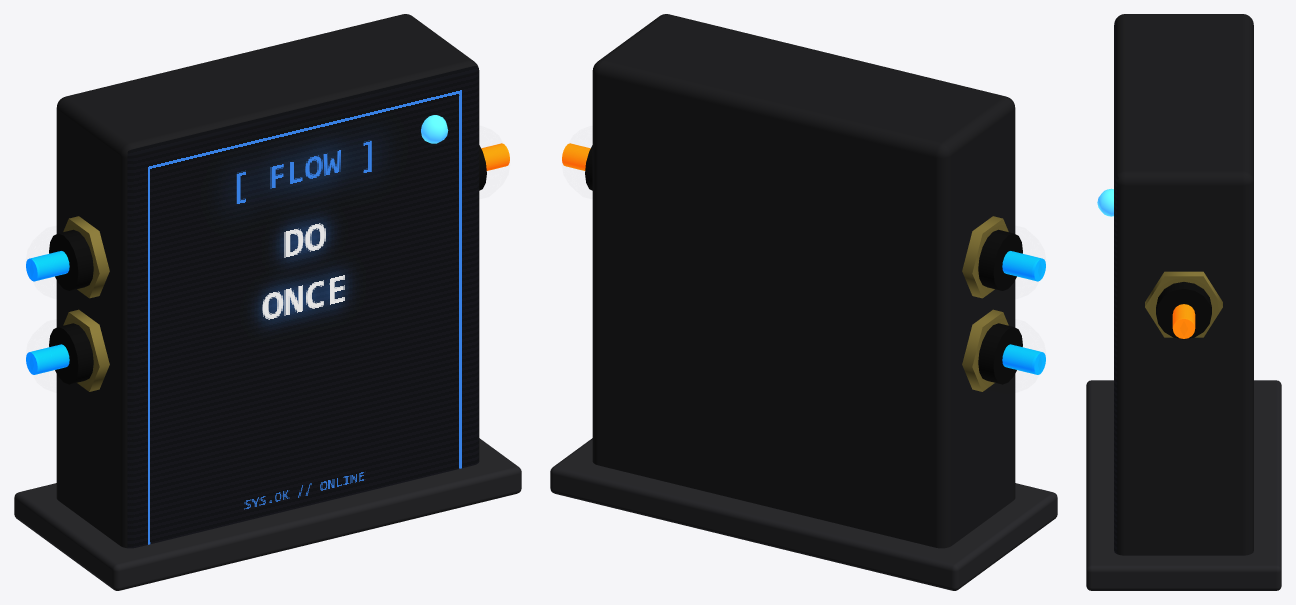
Rendered from flow_do_once.glb.
3 views of the same model, side by side, from view 1: azimuth 30°, elevation 25°; view 2: azimuth 150°, elevation 25°; view 3: azimuth 270°, elevation 25° (orthographic). The views are drawn at different scales.
Visible parts, largest first — view 1: chassis, bracket, socket (×2), hex_nut (×2), pin (×2); view 2: chassis, bracket, socket (×2), hex_nut (×2), pin (×2); view 3: chassis, bracket, socket, hex_nut, pin, status_led.
Boxes of the visible parts, x1,y1,x2,y2 form: chassis: (56, 14, 479, 548); bracket: (14, 438, 521, 590); socket (×2): (49, 229, 93, 384); hex_nut (×2): (63, 216, 109, 391); pin (×2): (26, 251, 69, 374); chassis: (592, 14, 1015, 548); bracket: (550, 438, 1057, 590); socket (×2): (978, 229, 1022, 384); hex_nut (×2): (962, 216, 1008, 391); pin (×2): (1002, 251, 1045, 374); chassis: (1114, 14, 1253, 555); bracket: (1086, 380, 1281, 590); socket: (1156, 282, 1211, 339); hex_nut: (1145, 271, 1222, 337); pin: (1172, 304, 1195, 338); status_led: (1097, 188, 1113, 216).
Bounding box in the file's own units: 1.86 × 1.6 × 0.7.
11 materials, 1 textured.
